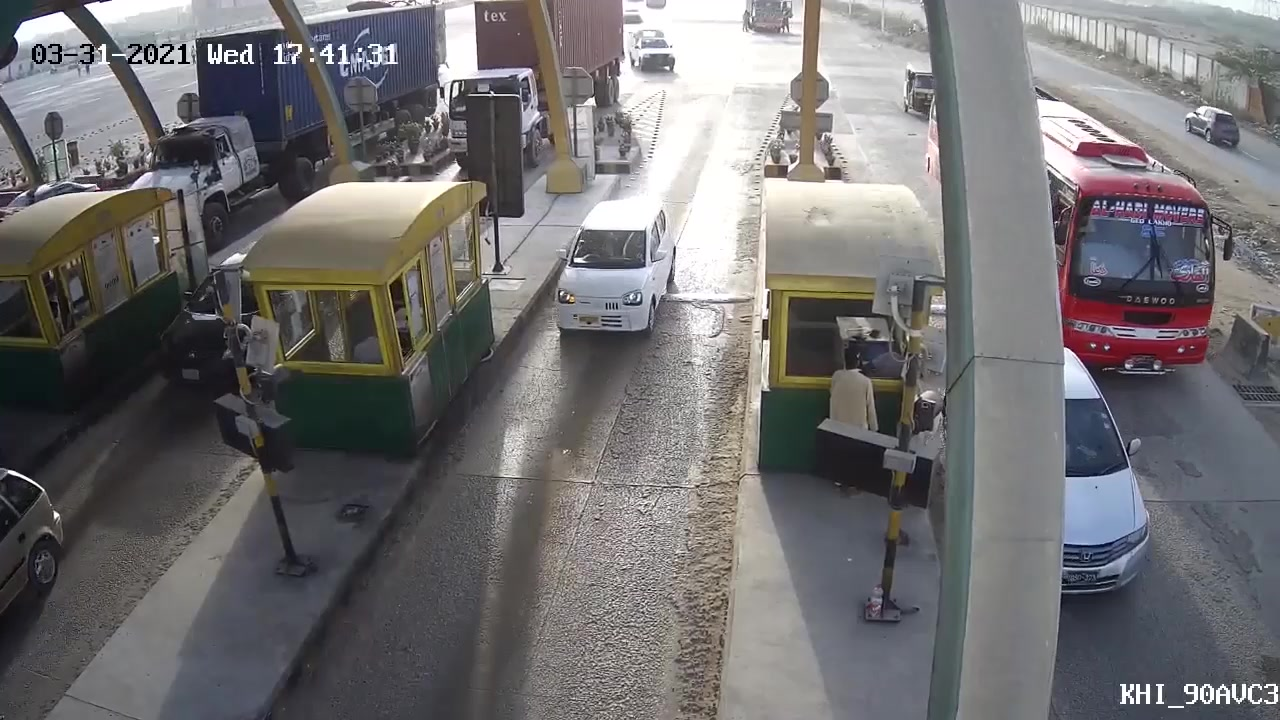F1: (545, 192, 686, 343)
